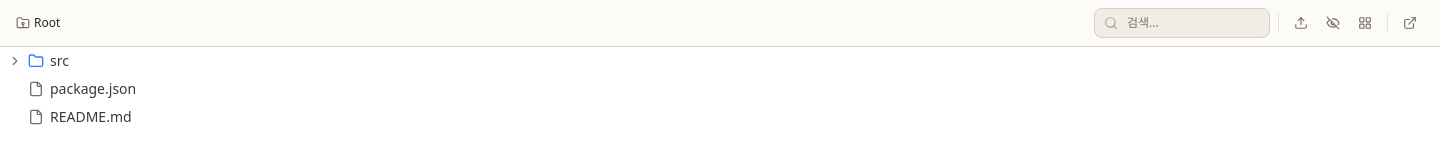
Test: FileExplorerTab › clears search text when X button is clicked
The width and height of the screenshot is (1440, 160).
Expected: the text "src" is shown, [50, 51, 69, 71]
Type "App" into the field with placeholder "검색...".
click(1182, 23); type("App")  # box [1094, 8, 1270, 38]
Wait 300 ms
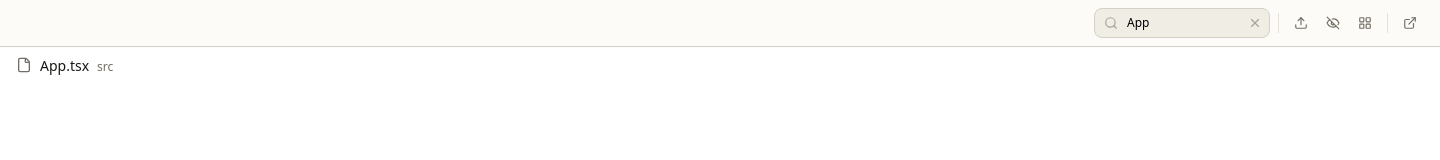
Note: Click clear button
Click the button named "검색어 지우기".
click(1255, 23)  # box [1248, 16, 1262, 30]
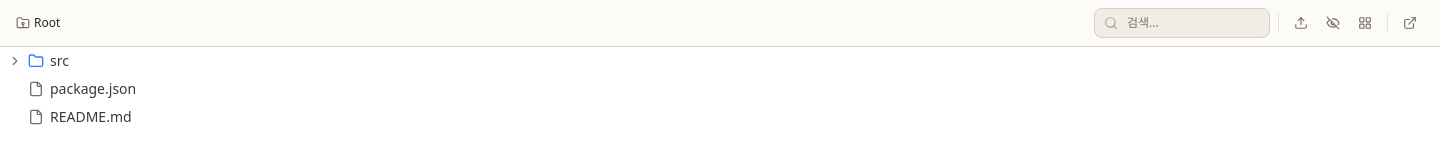
Now the element showing "src package.json README.md" is shown, box [8, 51, 136, 126]
Now the field with placeholder "검색..." is empty, box [1094, 8, 1270, 38]
